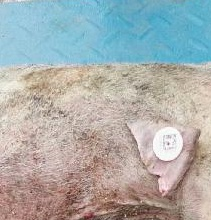text: (145, 121, 191, 169)
